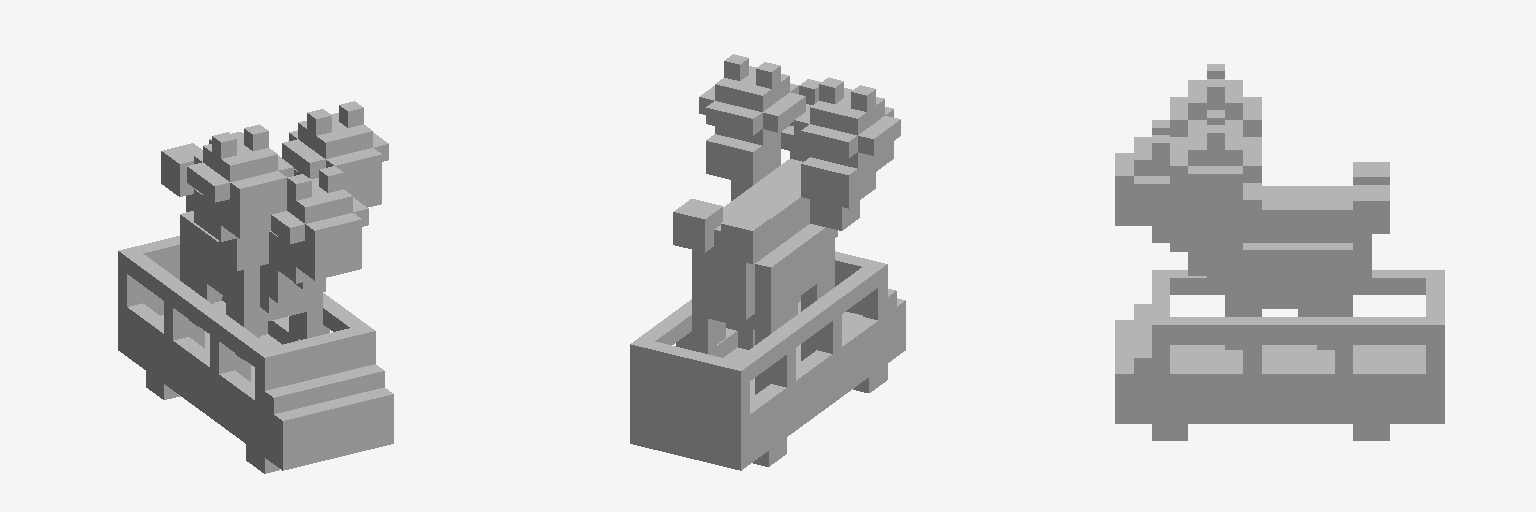
File: Savannah_llama_3.obj
3 views of the same model, side by side, from view 1: azimuth 30°, elevation 25°; view 2: azimuth 150°, elevation 25°; view 3: azimuth 270°, elevation 25° (orthographic).
Size of the model in its own units: 11 by 19 by 18.